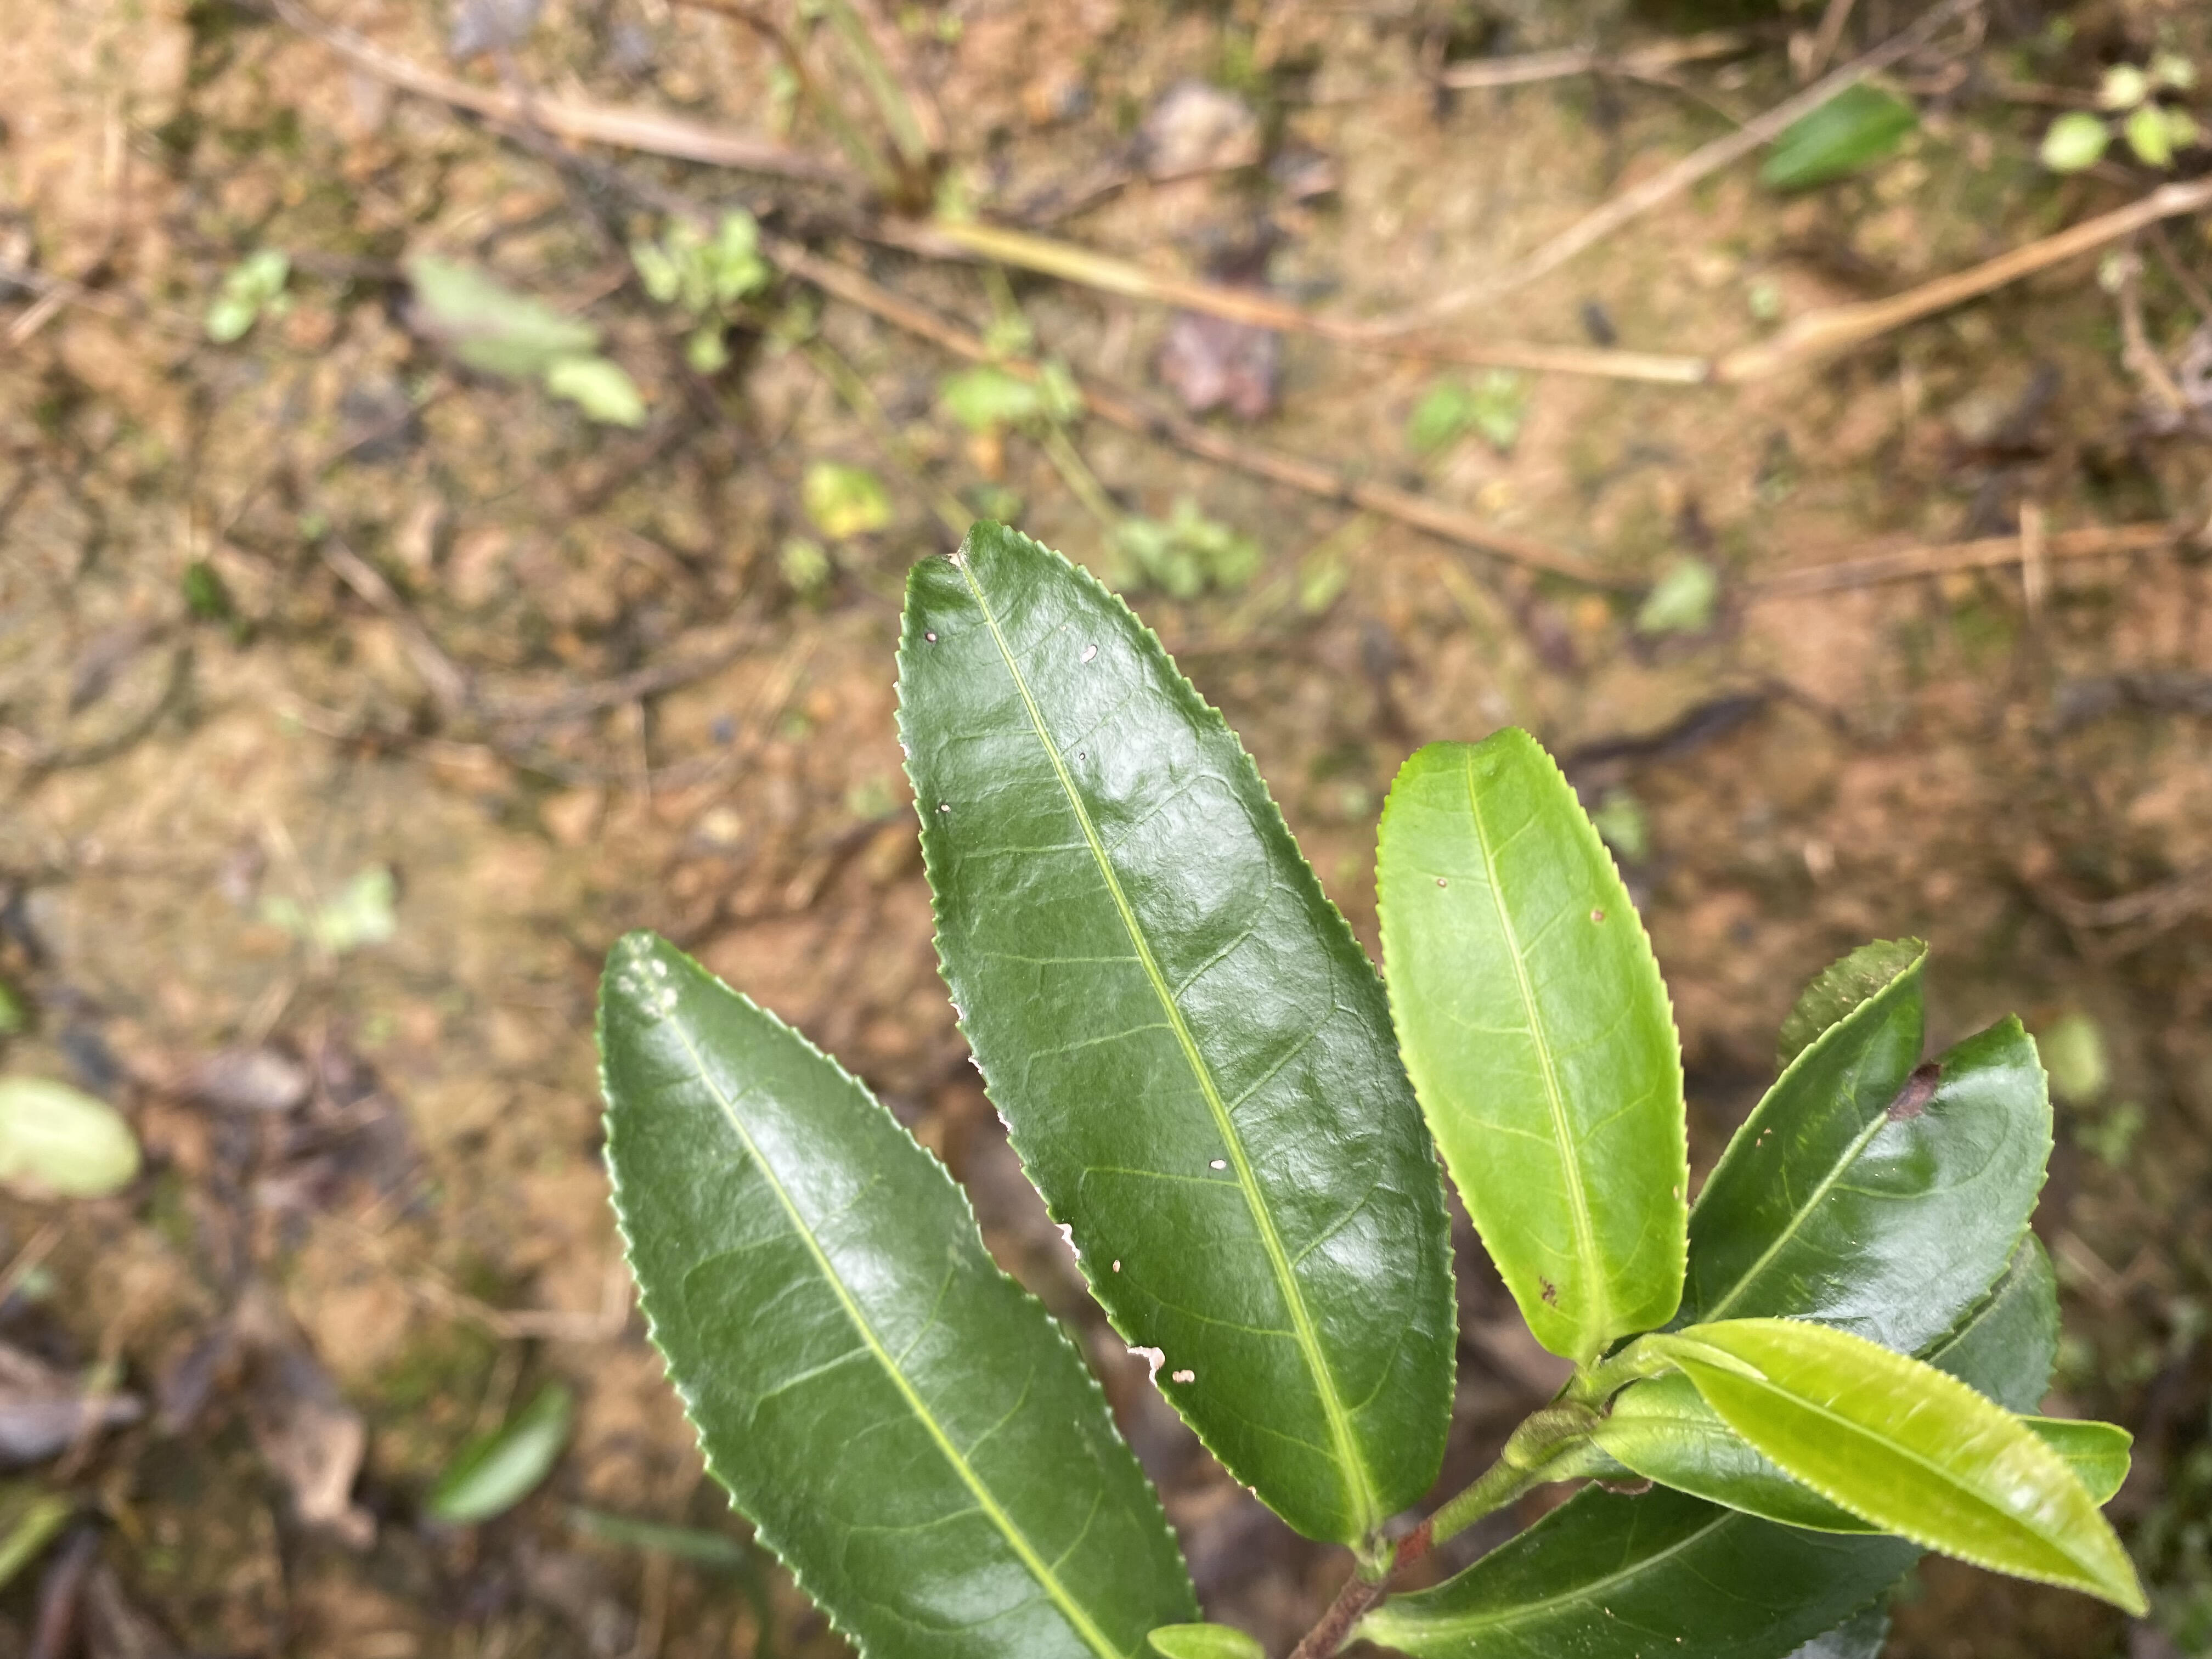healthy: (592, 931, 1200, 1654), (1677, 1314, 2156, 1617)
tanju_high: (1686, 936, 2052, 1366)
tanju_low: (895, 525, 1460, 1547), (1372, 723, 1689, 1358)
